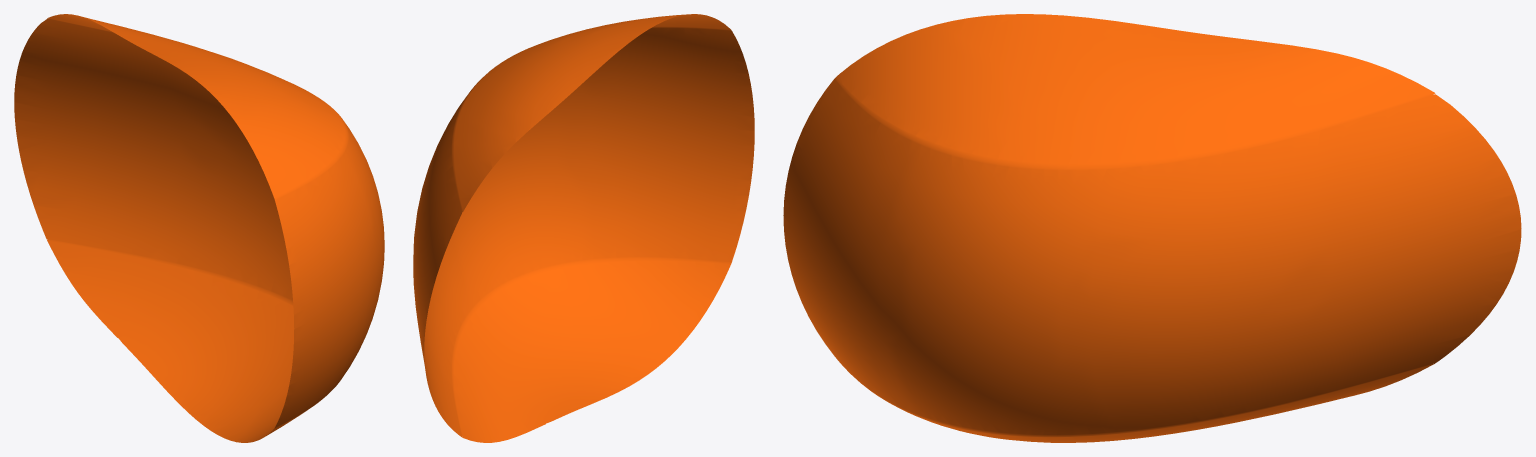
The model's file is link_4_orange.obj.
The picture shows the model from 3 angles, left to right: view 1: azimuth 30°, elevation 25°; view 2: azimuth 150°, elevation 25°; view 3: azimuth 270°, elevation 25°; orthographic projection. The views are drawn at different scales.
Visible parts, largest first — view 1: link_4_orange; view 2: link_4_orange; view 3: link_4_orange.
Part boxes in pixels (box(x1,y1,x2,y2)): link_4_orange: box(14, 14, 384, 442); link_4_orange: box(413, 14, 754, 442); link_4_orange: box(783, 14, 1521, 442).
Size of the model in its own units: 0.0679 by 0.1242 by 0.2007.
